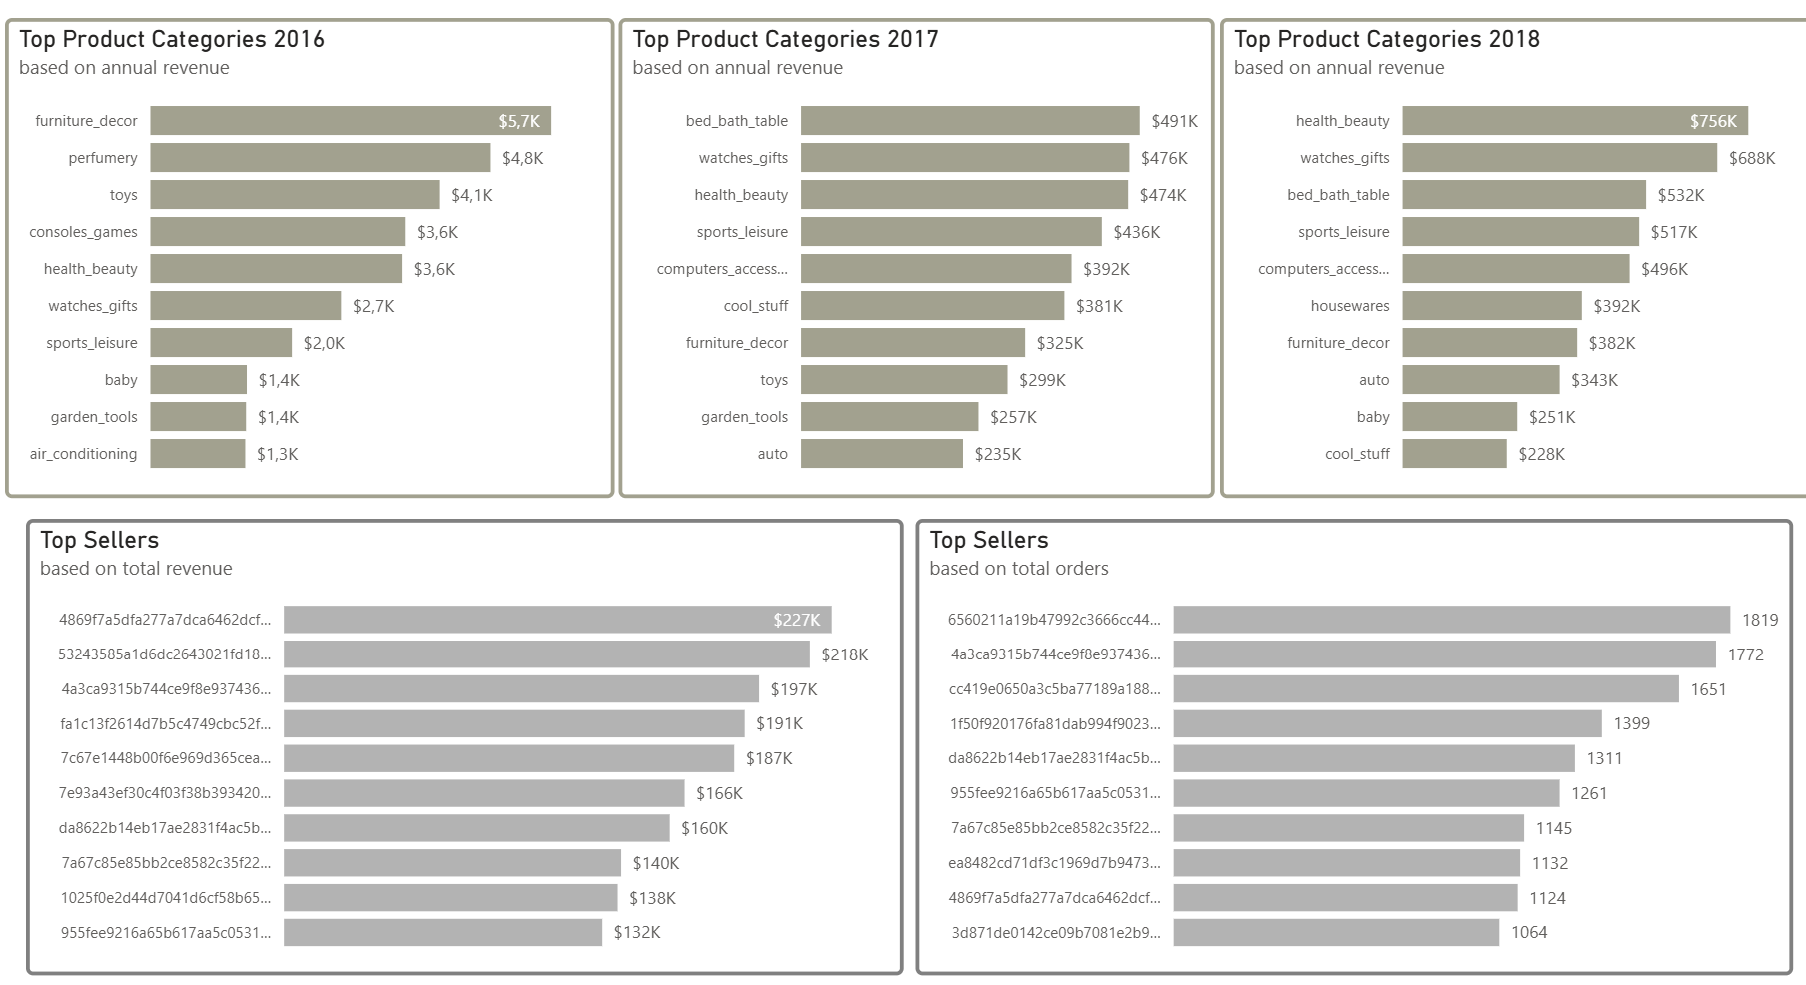

The page's visual inventory and layout, read from the dashboard file:
{"tool":"powerbi","page":{"name":"Page 3","canvas":[1280,720],"ordinal":2},"visuals":[{"type":"clusteredBarChart","title":"Top Product Categories 2016","fields":{"Category":["ecommerce vw_top_categories.category"],"Y":["Max(ecommerce vw_top_categories.revenue)"]},"box":[3.8,29.1,427.6,336.5],"z":0},{"type":"clusteredBarChart","title":"Top Product Categories 2017","fields":{"Category":["ecommerce vw_top_categories.category"],"Y":["Max(ecommerce vw_top_categories.revenue)"]},"box":[434.7,29.1,417.8,336.5],"z":1000},{"type":"clusteredBarChart","title":"Top Product Categories 2018","fields":{"Category":["ecommerce vw_top_categories.category"],"Y":["Max(ecommerce vw_top_categories.revenue)"]},"box":[855.7,29.1,417.8,336.5],"z":2000},{"type":"clusteredBarChart","title":"Top Sellers","fields":{"Category":["ecommerce vw_top_sellers.seller_id"],"Y":["Max(ecommerce vw_top_sellers.seller_revenue)"]},"box":[19.2,380.6,615.5,320.5],"z":3000},{"type":"clusteredBarChart","title":"Top Sellers","fields":{"Category":["ecommerce vw_top_sellers.seller_id"],"Y":["Sum(ecommerce vw_top_sellers.order_count)"]},"box":[642.3,380.6,615.5,320.5],"z":4000}]}

Visuals, with their boxes on the page's 1280x720 design canvas (x1, y1, x2, y2). These are canvas units, not pixel positions in the 1806x985 screenshot, which may show the page scaled, cropped or inside an application window:
"Top Product Categories 2016" clusteredBarChart: locate(4, 29, 431, 366)
"Top Product Categories 2017" clusteredBarChart: locate(435, 29, 852, 366)
"Top Product Categories 2018" clusteredBarChart: locate(856, 29, 1274, 366)
"Top Sellers" clusteredBarChart: locate(19, 381, 635, 701)
"Top Sellers" clusteredBarChart: locate(642, 381, 1258, 701)
